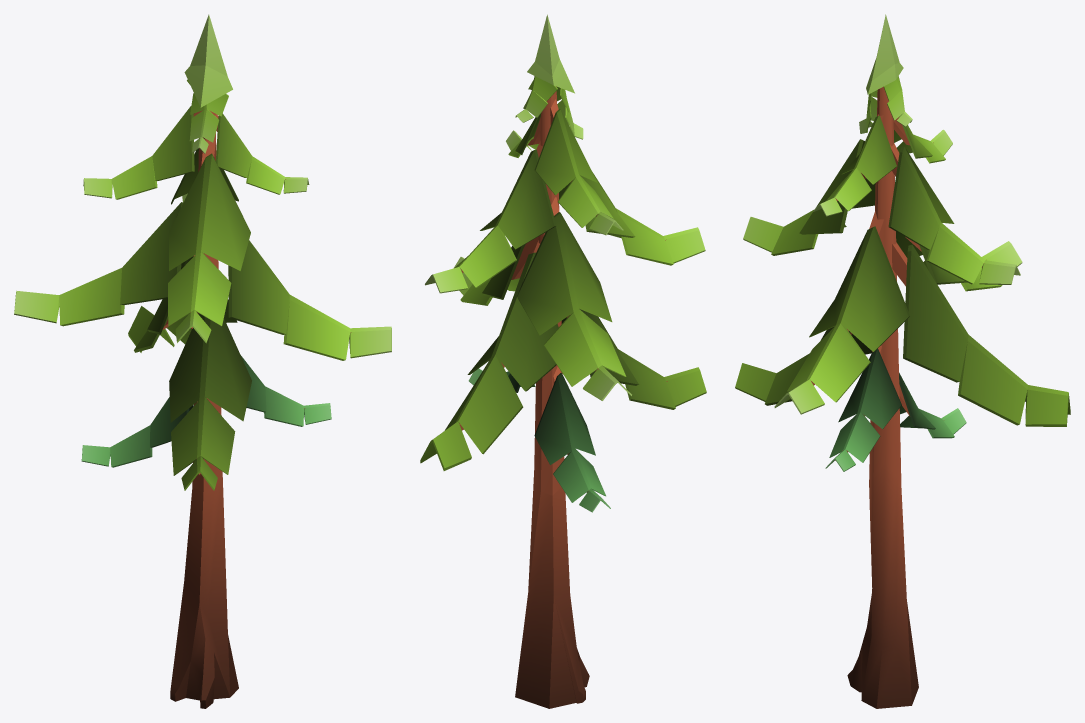
The model's file is Tree_E_1.fbx.
The picture shows the model from 3 angles, left to right: view 1: azimuth 30°, elevation 25°; view 2: azimuth 150°, elevation 25°; view 3: azimuth 270°, elevation 25°; orthographic projection.
Visible parts, largest first — view 1: Tree_E_1; view 2: Tree_E_1; view 3: Tree_E_1.
Boxes of the visible parts, x1,y1,x2,y2 form: Tree_E_1: (14, 14, 391, 708); Tree_E_1: (420, 14, 706, 708); Tree_E_1: (735, 14, 1070, 708).
Size of the model in its own units: 158 by 365 by 163.
